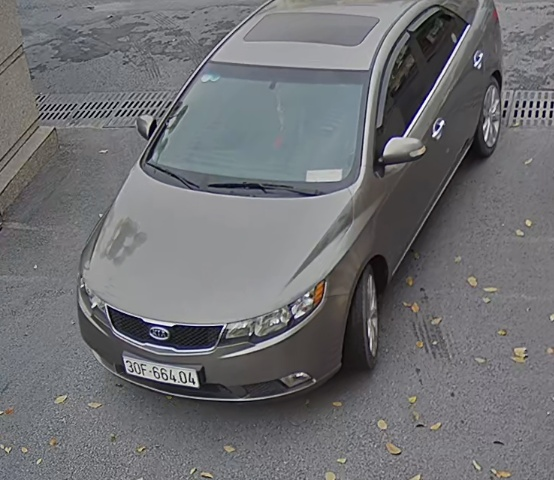vehicle plate: (117, 350, 199, 392)
